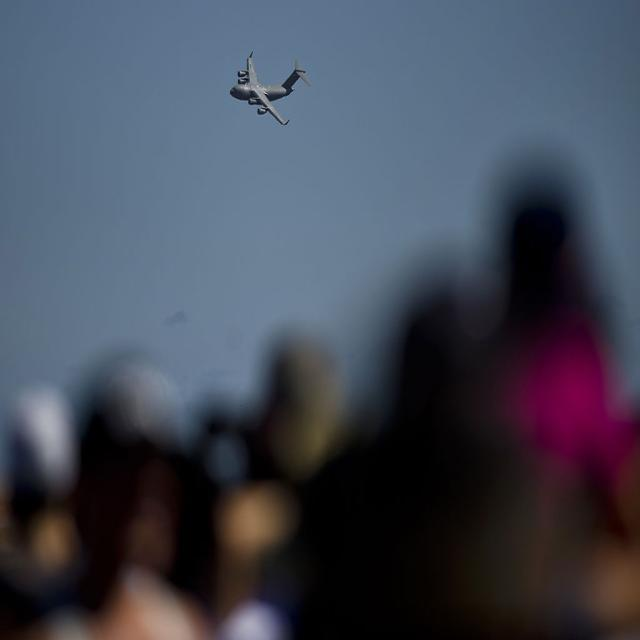MIL_Plane: (229, 53, 312, 124)
